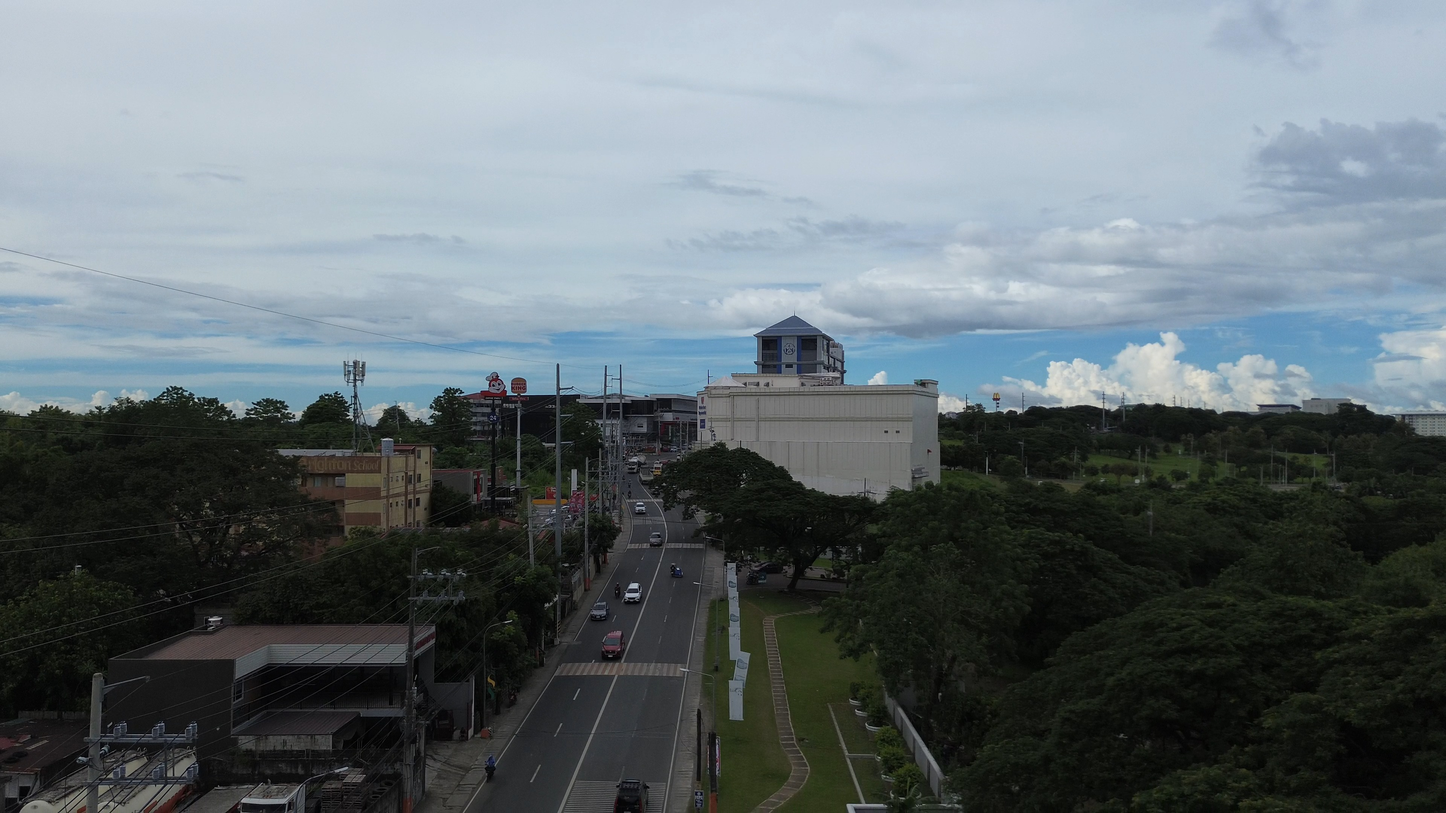car: (601, 630, 625, 658), (622, 583, 642, 603), (589, 601, 610, 620), (753, 562, 783, 573)
vehicle: (239, 784, 306, 813), (613, 780, 649, 813), (649, 531, 663, 547), (670, 563, 683, 577), (633, 502, 647, 515), (626, 462, 638, 473)
